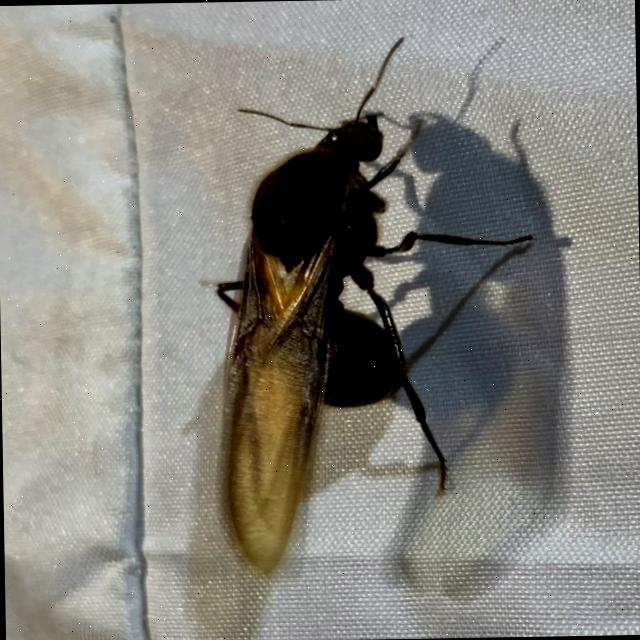Alive-Female-Alate: (208, 32, 544, 578)
